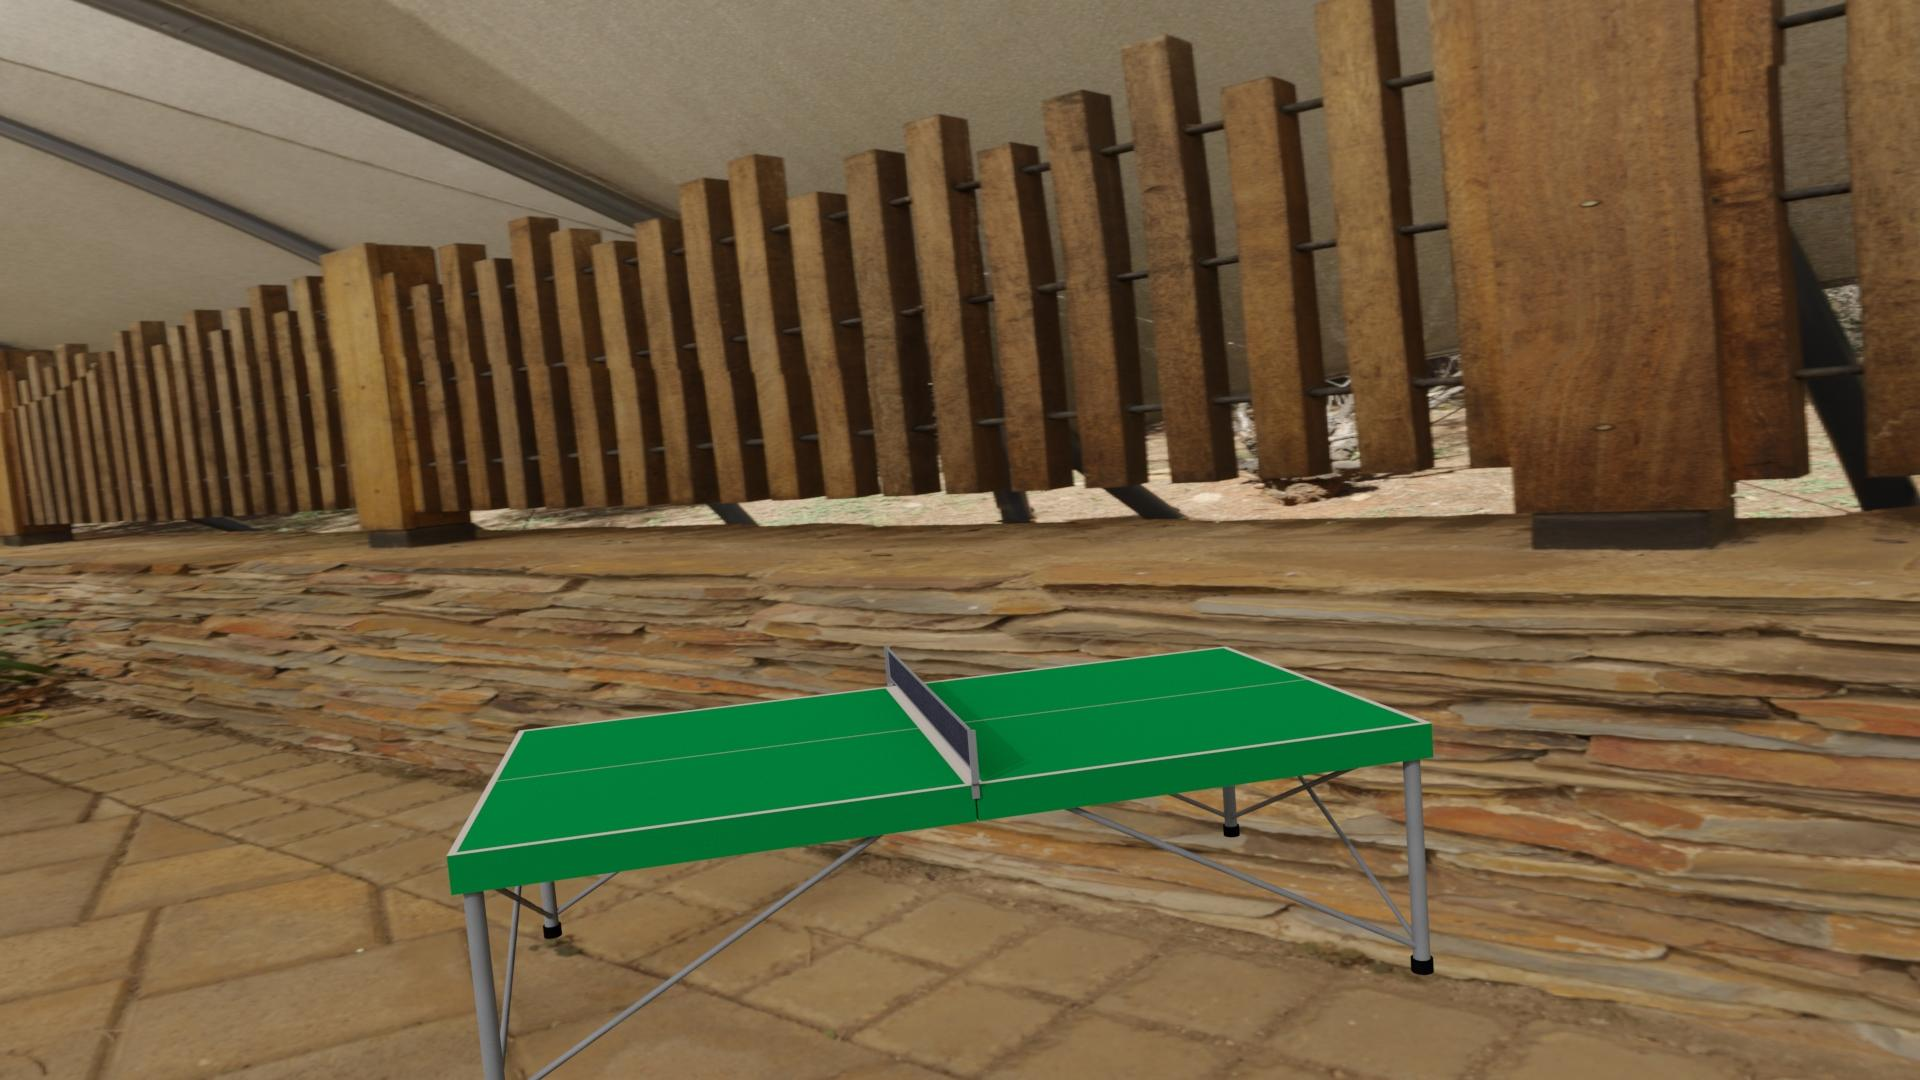table: (456, 647, 1422, 853)
